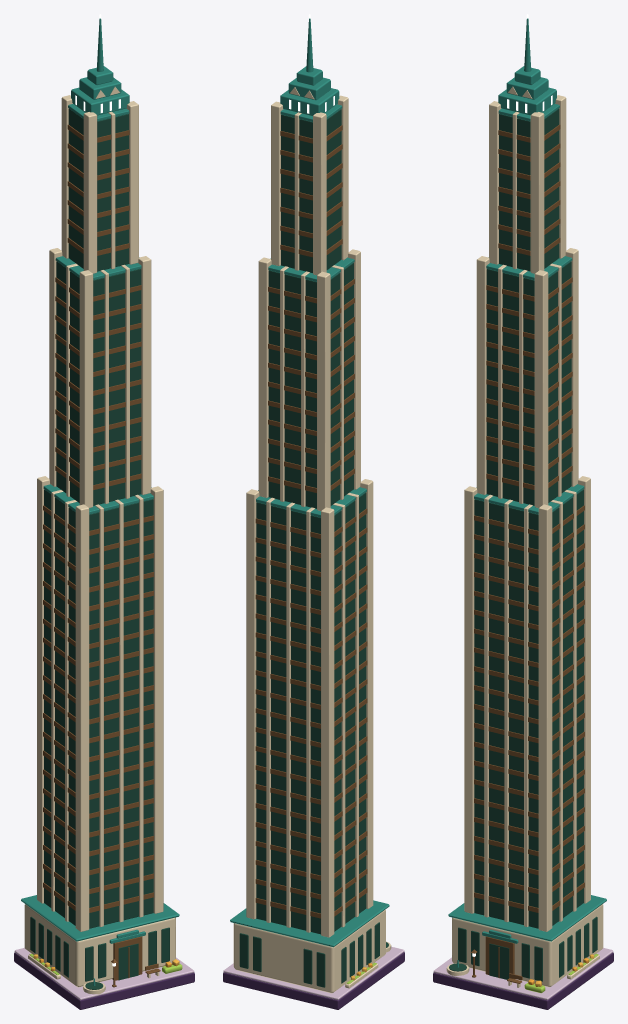
File: modern_building_2_4Level_Demo.glb
The picture shows the model from 3 angles, left to right: view 1: azimuth 30°, elevation 25°; view 2: azimuth 150°, elevation 25°; view 3: azimuth 330°, elevation 25°; orthographic projection.
Parts seen in each view (by area): view 1: MB2_4_Stone4, MB2_4_Glass4, MB2_4_Bronze4, MB2_4_Copper4, MB2_4_Base, MB2_4_Paving; view 2: MB2_4_Stone4, MB2_4_Glass4, MB2_4_Bronze4, MB2_4_Copper4, MB2_4_Base, MB2_4_Paving; view 3: MB2_4_Stone4, MB2_4_Glass4, MB2_4_Bronze4, MB2_4_Copper4, MB2_4_Base, MB2_4_Paving.
Boxes of the visible parts, x1,y1,x2,y2 form: MB2_4_Stone4: [24, 86, 175, 994]; MB2_4_Glass4: [30, 108, 169, 989]; MB2_4_Bronze4: [43, 124, 160, 987]; MB2_4_Copper4: [21, 18, 179, 985]; MB2_4_Base: [14, 952, 194, 1009]; MB2_4_Paving: [14, 948, 194, 1000]; MB2_4_Stone4: [233, 87, 391, 993]; MB2_4_Glass4: [239, 109, 388, 987]; MB2_4_Bronze4: [255, 125, 367, 918]; MB2_4_Copper4: [230, 18, 389, 947]; MB2_4_Base: [223, 952, 404, 1009]; MB2_4_Paving: [223, 946, 404, 999]; MB2_4_Stone4: [446, 86, 603, 987]; MB2_4_Glass4: [449, 108, 597, 981]; MB2_4_Bronze4: [471, 124, 584, 983]; MB2_4_Copper4: [448, 18, 606, 967]; MB2_4_Base: [433, 952, 613, 1009]; MB2_4_Paving: [433, 948, 613, 1000].
Size of the model in its own units: 3.2 by 25.33 by 3.2.
